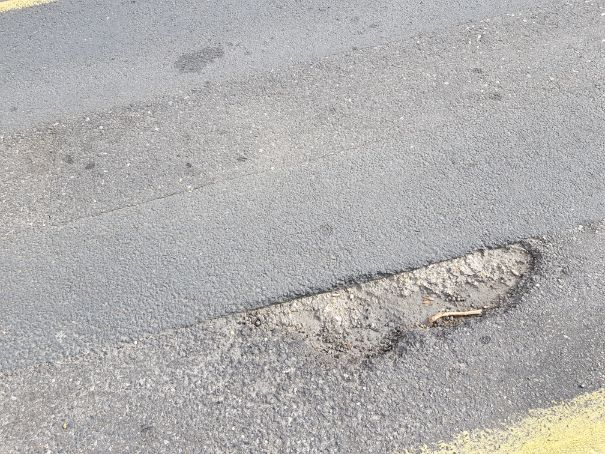pothole: (233, 238, 544, 364)
